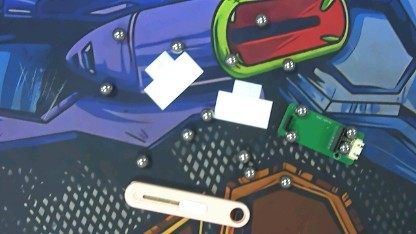ironball: (251, 11, 272, 28), (178, 126, 195, 145), (221, 49, 237, 69), (232, 150, 250, 167), (278, 56, 296, 73), (109, 26, 127, 43), (96, 79, 115, 95), (168, 37, 183, 55), (195, 109, 214, 123), (133, 152, 148, 169), (280, 173, 292, 189), (283, 129, 296, 143), (345, 124, 357, 138), (242, 168, 257, 178), (295, 103, 306, 115), (337, 141, 347, 154)
